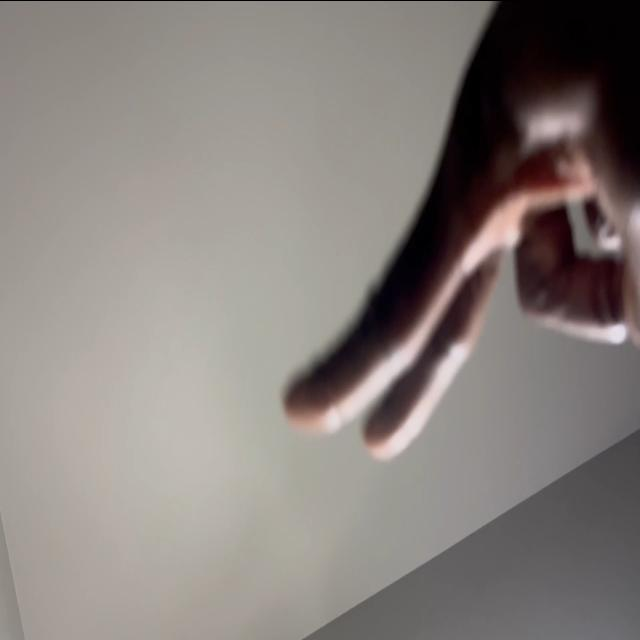Scissors: (279, 0, 640, 462)
